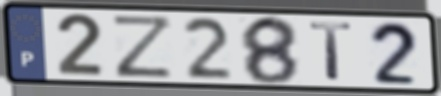2: (367, 17, 426, 90), (180, 15, 235, 82), (56, 11, 109, 79)
8: (237, 13, 303, 87)
T: (307, 21, 357, 83)
Z: (110, 13, 176, 80)
